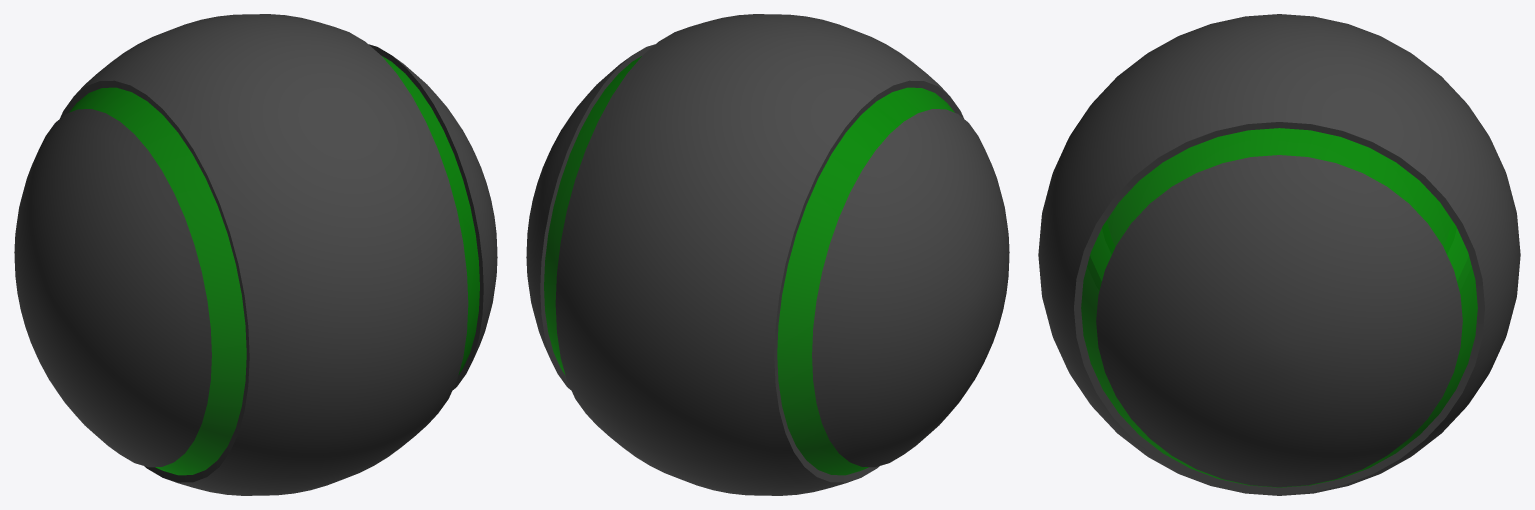
File: green_orb.fbx
3 views of the same model, side by side, from view 1: azimuth 30°, elevation 25°; view 2: azimuth 150°, elevation 25°; view 3: azimuth 270°, elevation 25° (orthographic).
Visible parts, largest first — view 1: green_orb; view 2: green_orb; view 3: green_orb.
Part boxes in pixels (x1=…): green_orb: x1=14, y1=14, x2=497, y2=495; green_orb: x1=526, y1=14, x2=1009, y2=495; green_orb: x1=1038, y1=14, x2=1520, y2=495.
Size of the model in its own units: 2.09 by 2.09 by 2.09.
